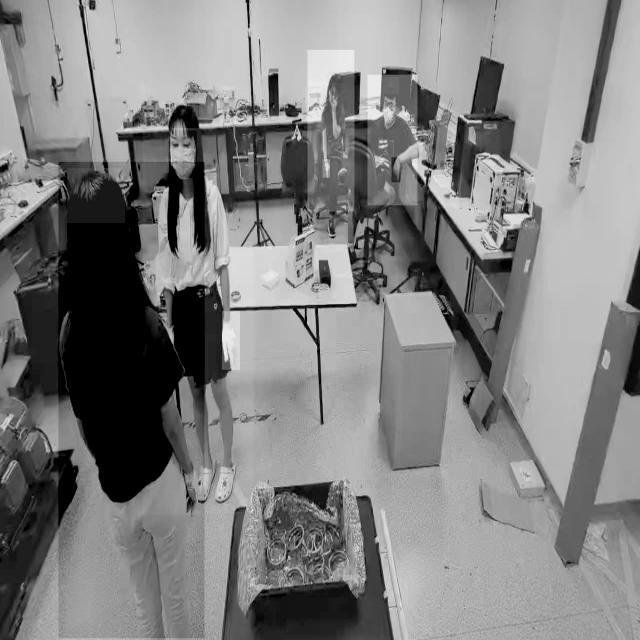face_mask: (172, 130, 197, 178), (383, 100, 397, 130)
face_nomask: (328, 87, 338, 103)
hand_glove: (181, 467, 202, 527), (222, 311, 240, 371)
hand_noglove: (391, 157, 401, 183), (322, 159, 330, 179), (330, 97, 338, 109)
head_nohelmet: (67, 168, 125, 224), (166, 103, 200, 129), (380, 77, 400, 95), (327, 72, 343, 84)
person: (59, 162, 205, 639), (142, 100, 254, 514), (307, 50, 355, 212), (368, 75, 418, 206)
shoes: (326, 216, 336, 239)
